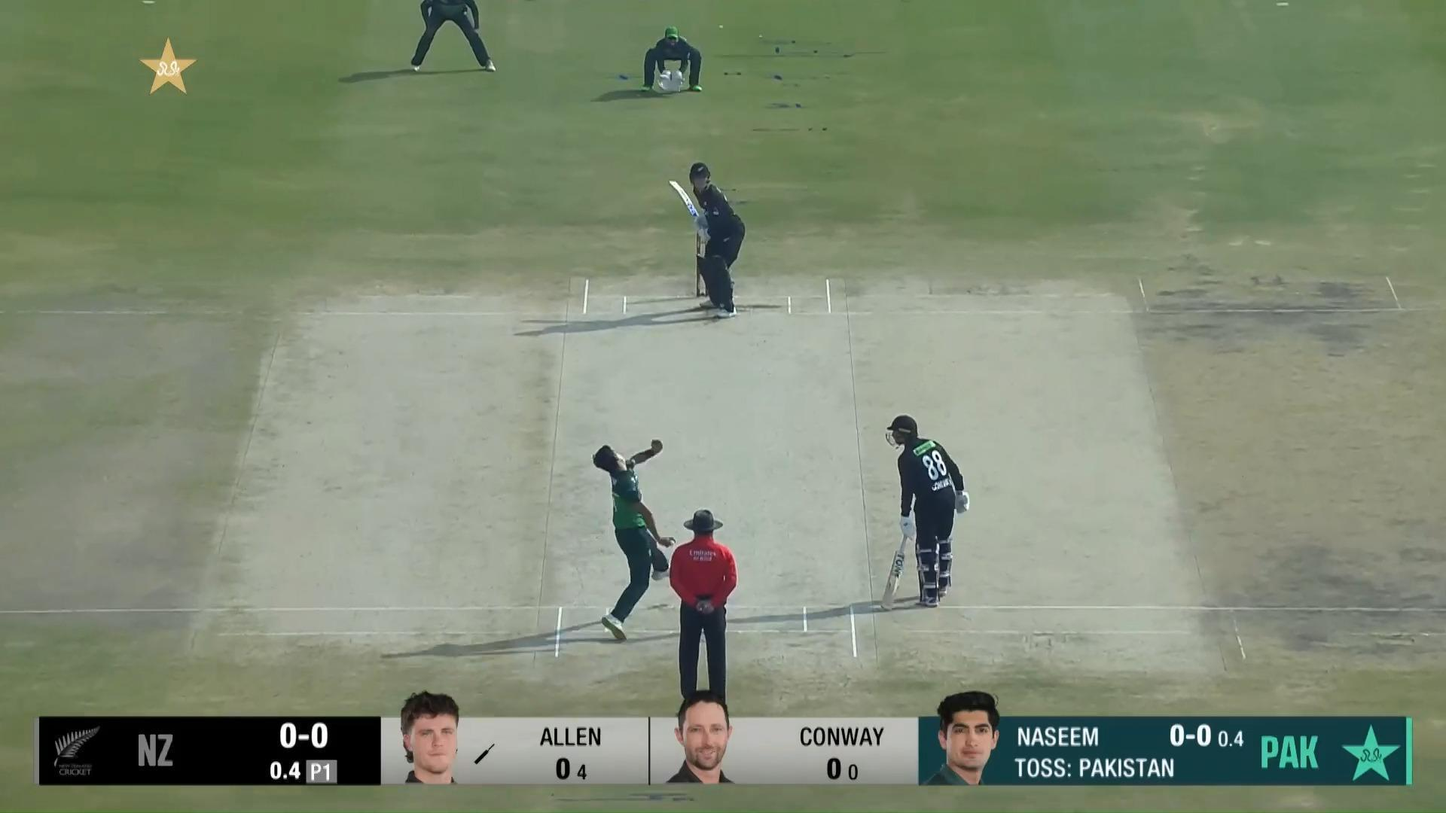BM 1: (668, 162, 746, 319)
BO: (592, 436, 676, 641)
